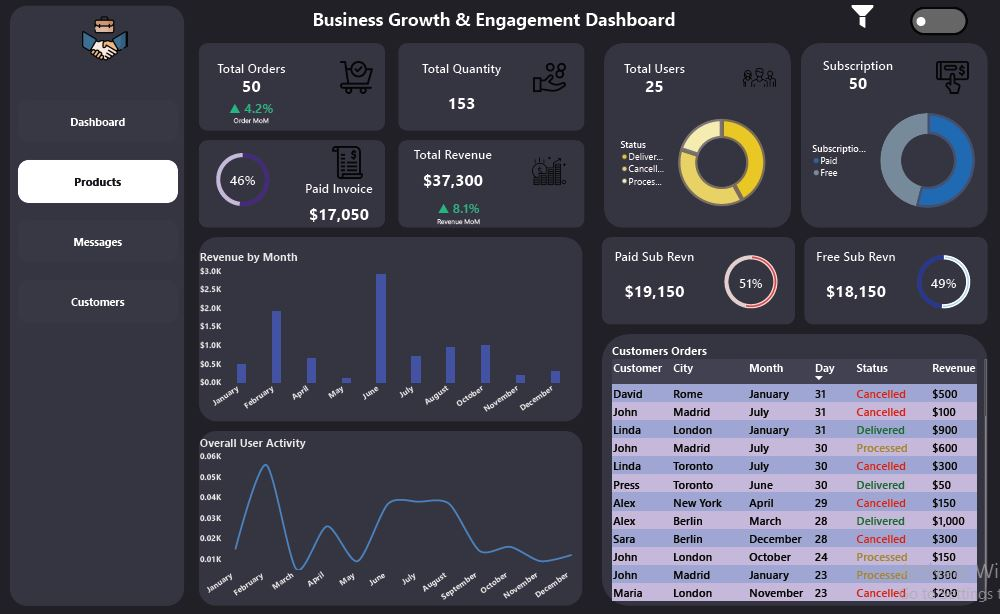

This screenshot's page, from the dashboard's own definition file:
{"tool":"powerbi","page":{"name":"Products","canvas":[5040,3150],"ordinal":1},"visuals":[{"type":"shape","title":"shape b","box":[48,0,4944,3120],"z":0,"group":"g1"},{"type":"donutChart","fields":{"Y":["CountNonNull(Sheet1.UserID)"],"Category":["Sheet1.InvoicePaid"]},"box":[1023.4,784,430.4,335.9],"z":0,"group":"g2"},{"type":"group","id":"g1","title":"LIGHT","box":[48,0,4944,3120],"z":1000},{"type":"shape","box":[96,96,864,2976],"z":1000,"group":"g1"},{"type":"card","title":"Orders","fields":{"Values":["Sheet1.invoice paid revenue"]},"box":[1109.5,868,258.2,168],"z":1000,"group":"g2"},{"type":"bookmarkNavigator","box":[4512,48,288,144],"z":2000},{"type":"shape","box":[1023.4,2191.4,1883.7,860.1],"z":2000,"group":"g1"},{"type":"shape","box":[2002.9,758,914.2,430],"z":3000,"group":"g1"},{"type":"textbox","box":[1488,48,1872,240],"z":4000,"group":"g1"},{"type":"shape","box":[3014.5,280.1,915.8,907.8],"z":5000,"group":"g1"},{"type":"pageNavigator","box":[132,557.3,792.3,923.8],"z":6000,"group":"g1"},{"type":"shape","box":[3003.2,1235.8,946.9,430],"z":7000,"group":"g1"},{"type":"image","box":[231.1,141.6,660.3,230.9],"z":8000,"group":"g1"},{"type":"shape","box":[3981.2,280.1,915.8,907.8],"z":9000,"group":"g1"},{"type":"shape","box":[1023.4,1235.8,1883.7,907.8],"z":10000,"group":"g1"},{"type":"shape","box":[3997.4,1235.8,899.5,430],"z":11000,"group":"g1"},{"type":"shape","box":[1023.4,280.1,914.2,430],"z":12000,"group":"g1"},{"type":"shape","box":[3003.2,1713.6,1893.7,1337.9],"z":13000,"group":"g1"},{"type":"shape","box":[2002.9,280.1,914.2,430],"z":14000,"group":"g1"},{"type":"columnChart","title":"Revenue by Month","fields":{"Category":["Sheet1.Date.Variation.Date Hierarchy.Month"],"Y":["Sum(Sheet1.Revenue)"]},"box":[1023.4,1296.3,1848.7,831.4],"z":15000,"group":"g1"},{"type":"shape","box":[1023.4,758,914.2,430],"z":16000,"group":"g1"},{"type":"lineChart","title":"Overall User Activity","fields":{"Category":["Sheet1.Date.Variation.Date Hierarchy.Month"],"Y":["Sum(Sheet1.UserActivity)"]},"box":[1023.4,2211.7,1893.7,839.8],"z":17000,"group":"g1"},{"type":"card","title":"Total Revenue","fields":{"Values":["Sheet1.Total Revenue"]},"box":[2056.4,784,430.4,251.9],"z":18000,"group":"g1"},{"type":"tableEx","title":"Customers Orders","fields":{"Values":["Sheet1.Customer","Sheet1.City","Sheet1.Date.Variation.Date Hierarchy.Month","Sheet1.Date.Variation.Date Hierarchy.Day","Sheet1.Status","Sum(Sheet1.Revenue)"]},"box":[3042.9,1764.7,1854,1287.7],"z":19000,"group":"g1"},{"type":"card","title":"Orders","fields":{"Values":["Sheet1.Revenue MoM Indicator"]},"box":[2056.4,1036,430.4,168],"z":20000,"group":"g1"},{"type":"card","title":"Total Orders","fields":{"Values":["Sheet1.Order"]},"box":[1023.4,364.1,516.5,168],"z":21000,"group":"g1"},{"type":"card","title":"Orders","fields":{"Values":["Sheet1.Order MoM Indicator"]},"box":[1023.4,532.1,516.5,168],"z":22000,"group":"g1"},{"type":"image","box":[1712,364.1,172.2,168],"z":23000,"group":"g1"},{"type":"image","box":[2658.9,784,172.2,251.9],"z":24000,"group":"g1"},{"type":"card","title":"Total Users","fields":{"Values":["Count(Sheet1.UserID)"]},"box":[3003.2,364.1,516.5,168],"z":25000,"group":"g1"},{"type":"image","box":[3691.8,364.1,172.2,168],"z":26000,"group":"g1"},{"type":"donutChart","fields":{"Y":["CountNonNull(Sheet1.UserID)"],"Category":["Sheet1.Status"]},"box":[3089.3,532.1,774.7,671.8],"z":27000,"group":"g1"},{"type":"card","title":"Subscription","fields":{"Values":["CountNonNull(Sheet1.SubscriptionType)"]},"box":[4003,346.6,516.5,168],"z":28000,"group":"g1"},{"type":"donutChart","fields":{"Y":["CountNonNull(Sheet1.UserID)"],"Category":["Sheet1.SubscriptionType"]},"box":[4036.1,532.1,860.8,671.8],"z":29000,"group":"g1"},{"type":"image","box":[4638.7,364.1,172.2,168],"z":30000,"group":"g1"},{"type":"card","title":"Total Quantity","fields":{"Values":["Sum(Sheet1.Quantity)"]},"box":[2056.4,364.1,516.5,335.9],"z":31000,"group":"g1"},{"type":"image","box":[2658.9,364.1,172.2,168],"z":32000,"group":"g1"},{"type":"card","title":"Paid Invoice","fields":{"Values":["Sheet1.Total Revenue"]},"box":[1453.8,952,516.5,251.9],"z":33000,"group":"g1"},{"type":"donutChart","fields":{"Y":["CountNonNull(Sheet1.UserID)"],"Category":["Sheet1.SubscriptionType"]},"box":[3519.7,1287.9,430.4,335.9],"z":34000,"group":"g1"},{"type":"donutChart","fields":{"Y":["Sheet1.PAID - FILL  TO 100","Sheet1.Free sub revenue"]},"box":[4466.5,1287.9,430.4,335.9],"z":35000,"group":"g1"},{"type":"card","title":"Orders","fields":{"Values":["Sheet1.paid sub revenue"]},"box":[3605.8,1371.9,258.2,168],"z":36000,"group":"g1"},{"type":"card","title":"Orders","fields":{"Values":["Sheet1.Free sub revenue"]},"box":[4552.6,1371.9,258.2,168],"z":37000,"group":"g1"},{"type":"image","box":[1626,784,258.2,168],"z":38000,"group":"g1"},{"type":"card","title":"Paid Sub Revn","fields":{"Values":["Sheet1.Total Revenue"]},"box":[3003.2,1287.9,516.5,335.9],"z":39000,"group":"g1"},{"type":"group","id":"g2","title":"Group 1","box":[1023.4,784,430.4,335.9],"z":41000,"group":"g1"},{"type":"card","title":"Free Sub Revn","fields":{"Values":["Sheet1.Total Revenue"]},"box":[4036.1,1287.9,430.4,335.9],"z":42000,"group":"g1"},{"type":"image","title":"SHOW FILTER w","box":[4000,50,260,130],"z":43500,"group":"g1"}]}

Visuals, with their boxes in screenshot pixels (x1, y1, x2, y2), scaled from the page's 5040x3150 canvas onto the 1000x614 screenshot:
"shape b" shape: select_region(10, 0, 990, 608)
donutChart - CountNonNull(Sheet1.UserID) x Sheet1.InvoicePaid: select_region(203, 153, 288, 218)
"LIGHT" group: select_region(10, 0, 990, 608)
shape: select_region(19, 19, 190, 599)
"Orders" card: select_region(220, 169, 271, 202)
bookmarkNavigator: select_region(895, 9, 952, 37)
shape: select_region(203, 427, 577, 595)
shape: select_region(397, 148, 579, 232)
textbox: select_region(295, 9, 667, 56)
shape: select_region(598, 55, 780, 232)
pageNavigator: select_region(26, 109, 183, 289)
shape: select_region(596, 241, 784, 325)
image: select_region(46, 28, 177, 73)
shape: select_region(790, 55, 972, 232)
shape: select_region(203, 241, 577, 418)
shape: select_region(793, 241, 972, 325)
shape: select_region(203, 55, 384, 138)
shape: select_region(596, 334, 972, 595)
shape: select_region(397, 55, 579, 138)
"Revenue by Month" columnChart: select_region(203, 253, 570, 415)
shape: select_region(203, 148, 384, 232)
"Overall User Activity" lineChart: select_region(203, 431, 579, 595)
"Total Revenue" card: select_region(408, 153, 493, 202)
"Customers Orders" tableEx: select_region(604, 344, 972, 595)
"Orders" card: select_region(408, 202, 493, 235)
"Total Orders" card: select_region(203, 71, 306, 104)
"Orders" card: select_region(203, 104, 306, 136)
image: select_region(340, 71, 374, 104)
image: select_region(528, 153, 562, 202)
"Total Users" card: select_region(596, 71, 698, 104)
image: select_region(732, 71, 767, 104)
donutChart - CountNonNull(Sheet1.UserID) x Sheet1.Status: select_region(613, 104, 767, 235)
"Subscription" card: select_region(794, 68, 897, 100)
donutChart - CountNonNull(Sheet1.UserID) x Sheet1.SubscriptionType: select_region(801, 104, 972, 235)
image: select_region(920, 71, 955, 104)
"Total Quantity" card: select_region(408, 71, 510, 136)
image: select_region(528, 71, 562, 104)
"Paid Invoice" card: select_region(288, 186, 391, 235)
donutChart - CountNonNull(Sheet1.UserID) x Sheet1.SubscriptionType: select_region(698, 251, 784, 317)
donutChart - Sheet1.PAID - FILL  TO 100 x Sheet1.Free sub revenue: select_region(886, 251, 972, 317)
"Orders" card: select_region(715, 267, 767, 300)
"Orders" card: select_region(903, 267, 955, 300)
image: select_region(323, 153, 374, 186)
"Paid Sub Revn" card: select_region(596, 251, 698, 317)
"Group 1" group: select_region(203, 153, 288, 218)
"Free Sub Revn" card: select_region(801, 251, 886, 317)
"SHOW FILTER w" image: select_region(794, 10, 845, 35)
